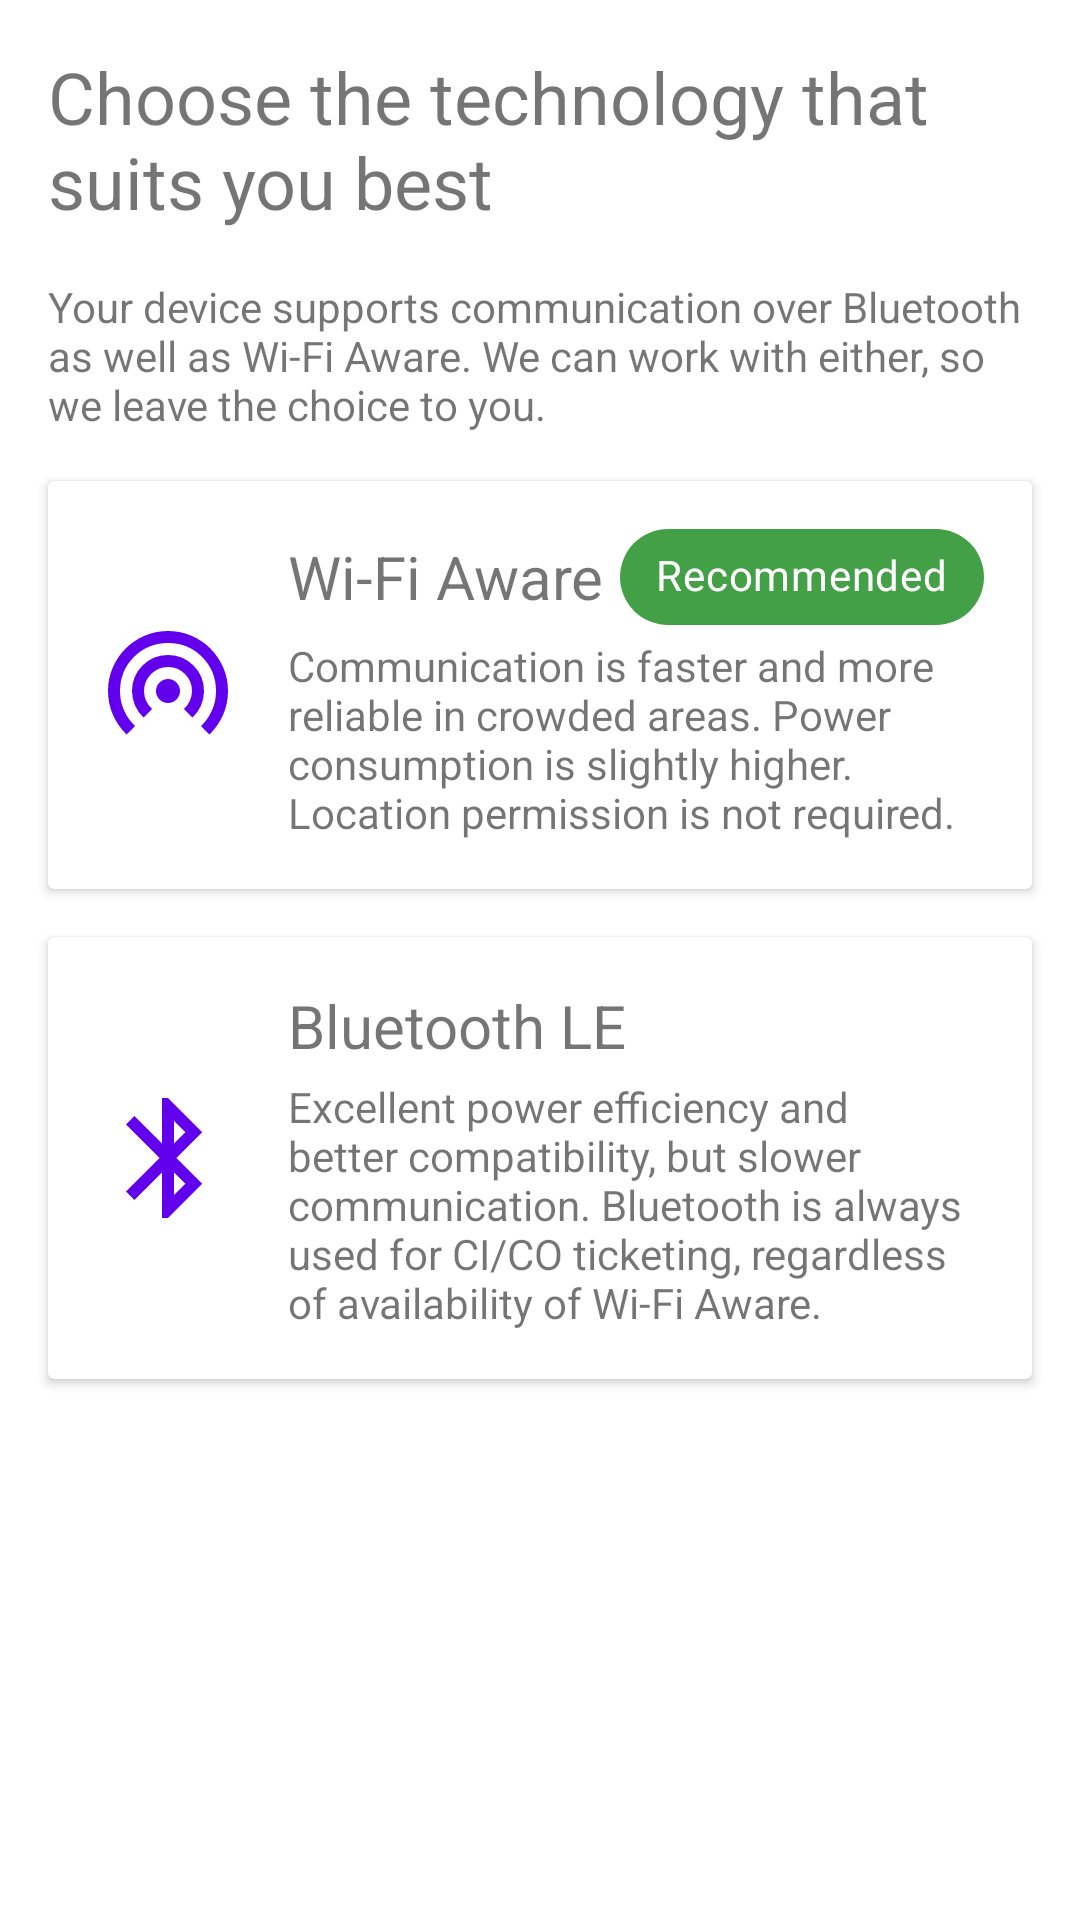

Point at icon controls on the screen. Image size 1080px×1920px, points as point (x, y).
wifi tethering: point (168, 683)
